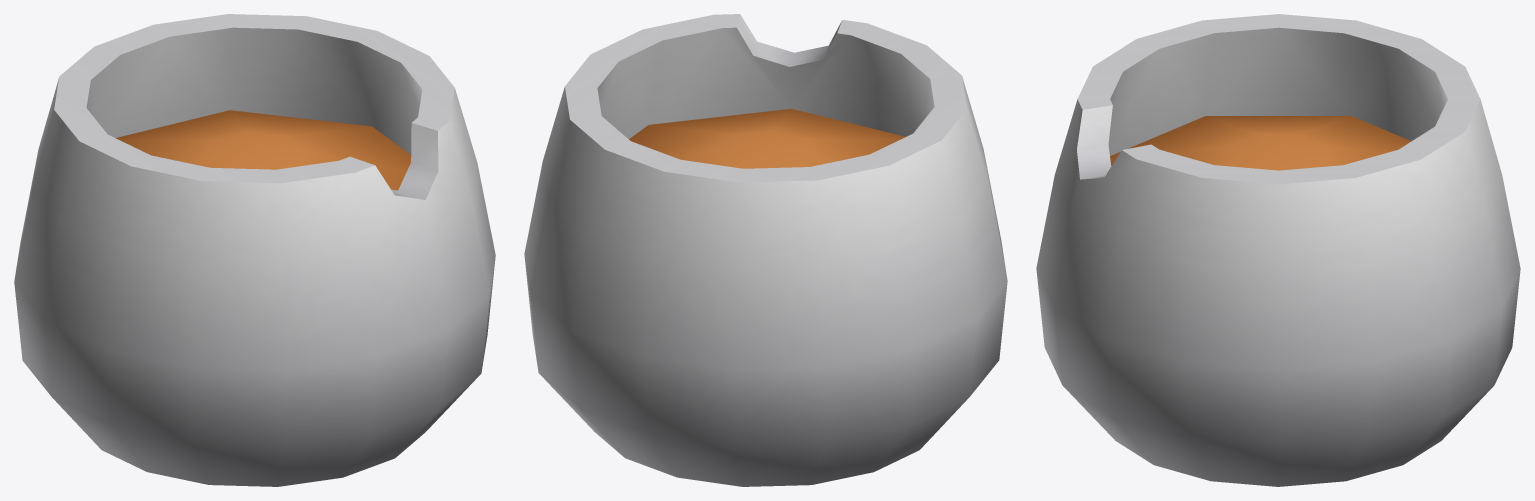
File: m_SugarContainer01_BrownSugar01.fbx
3 views of the same model, side by side, from view 1: azimuth 30°, elevation 25°; view 2: azimuth 150°, elevation 25°; view 3: azimuth 270°, elevation 25° (orthographic).
Parts seen in each view (by area): view 1: m_SugarContainer01_BrownSugar01; view 2: m_SugarContainer01_BrownSugar01; view 3: m_SugarContainer01_BrownSugar01.
Part boxes in pixels (box(x1,y1,x2,y2)): m_SugarContainer01_BrownSugar01: box(14, 14, 495, 486); m_SugarContainer01_BrownSugar01: box(524, 14, 1007, 486); m_SugarContainer01_BrownSugar01: box(1036, 14, 1520, 486).
Bounding box in the file's own units: 11.21 × 8 × 11.21.
